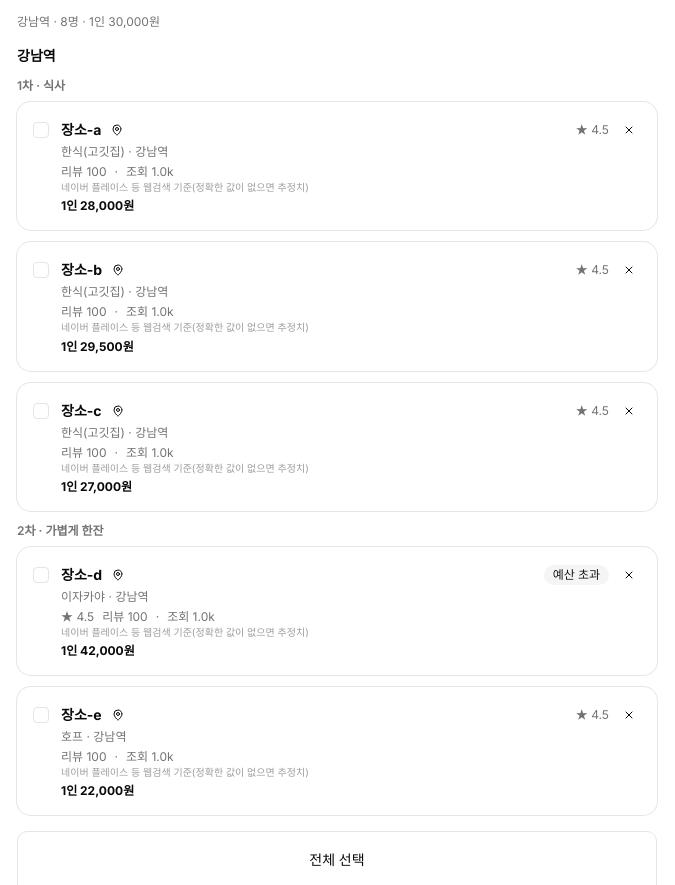
Scenario: ResultList › 전체 선택 클릭 → 모든 카드가 선택되고 버튼 라벨이 전체 해제로 바뀐다
Click the button "전체 선택": [337, 860] box [30, 844, 644, 876]
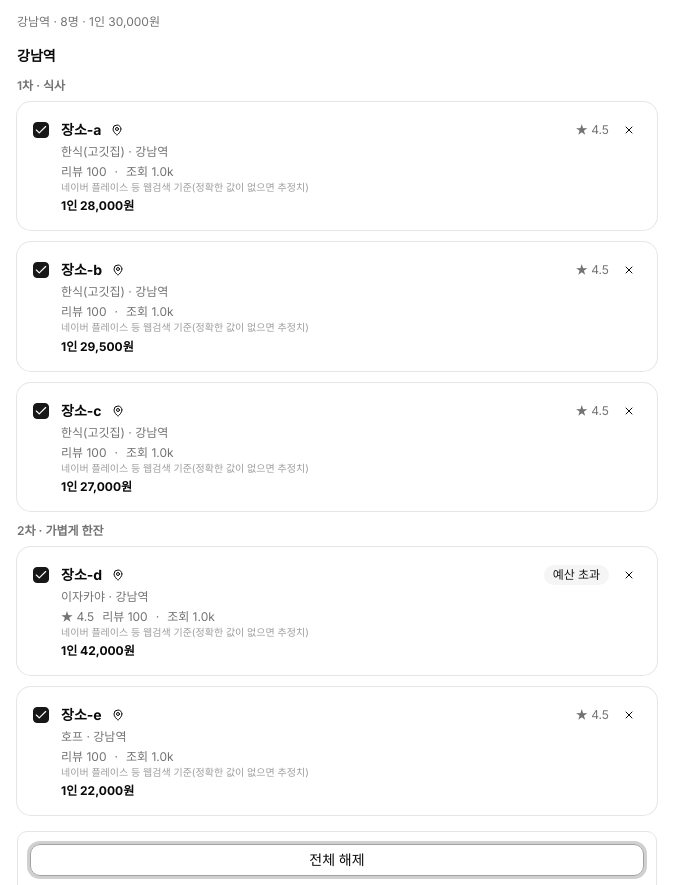
Expected: the checkbox named "장소-a 선택" is checked, [33, 122, 49, 138]
Expected: the checkbox named "장소-b 선택" is checked, [33, 262, 49, 278]
Expected: the checkbox named "장소-c 선택" is checked, [33, 403, 49, 419]
